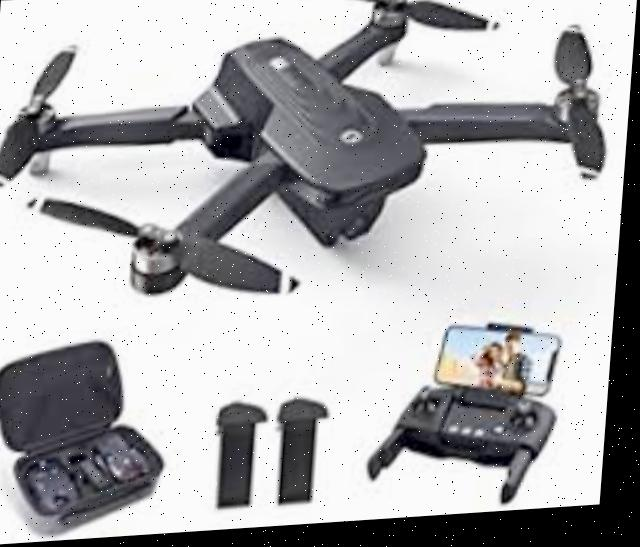drone: (0, 0, 626, 330)
